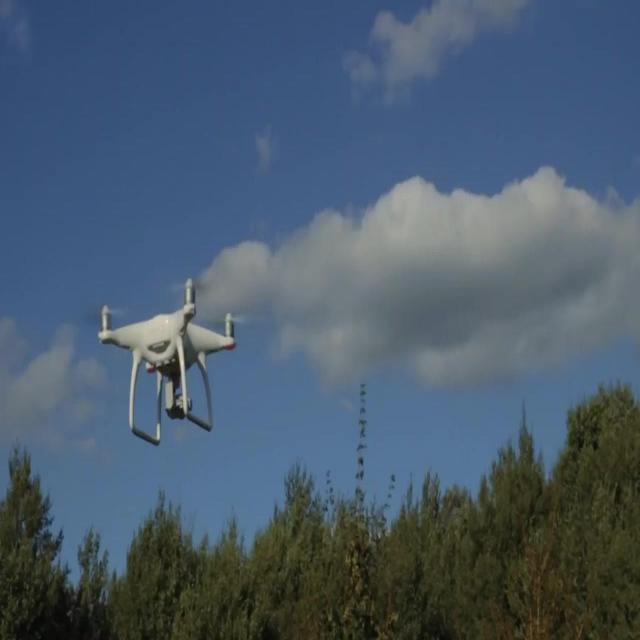UAV: (61, 275, 245, 445)
